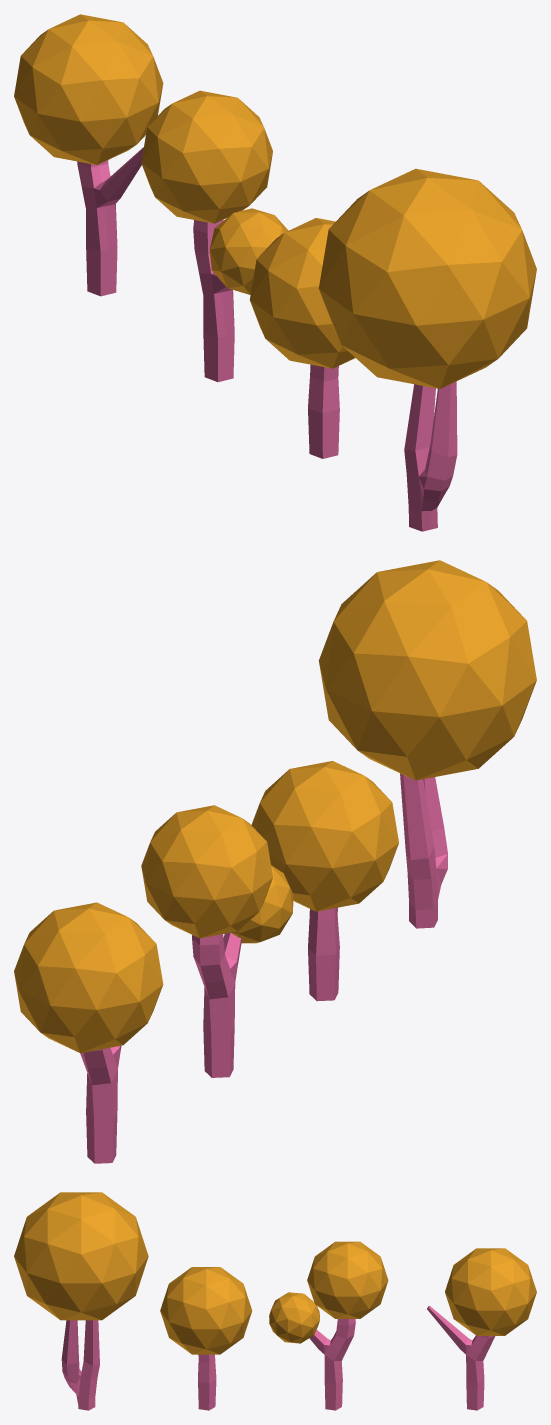
The model's file is trees.fbx.
The picture shows the model from 3 angles, top to bottom: view 1: azimuth 30°, elevation 25°; view 2: azimuth 150°, elevation 25°; view 3: azimuth 270°, elevation 25°; orthographic projection. The views are drawn at different scales.
Visible parts, largest first — view 1: Tree, Tree_4, Tree_3, Tree_2; view 2: Tree, Tree_4, Tree_3, Tree_2; view 3: Tree, Tree_3, Tree_4, Tree_2.
Boxes of the visible parts, x1,y1,x2,y2 form: Tree: [319, 168, 536, 531]; Tree_4: [14, 14, 163, 296]; Tree_3: [141, 90, 288, 382]; Tree_2: [250, 218, 355, 458]; Tree: [318, 560, 536, 928]; Tree_4: [14, 902, 163, 1163]; Tree_3: [141, 805, 293, 1077]; Tree_2: [251, 761, 398, 1001]; Tree: [14, 1192, 148, 1410]; Tree_3: [269, 1241, 388, 1410]; Tree_4: [427, 1248, 536, 1410]; Tree_2: [160, 1267, 252, 1410].
Size of the model in its own units: 278 by 507 by 1135.
